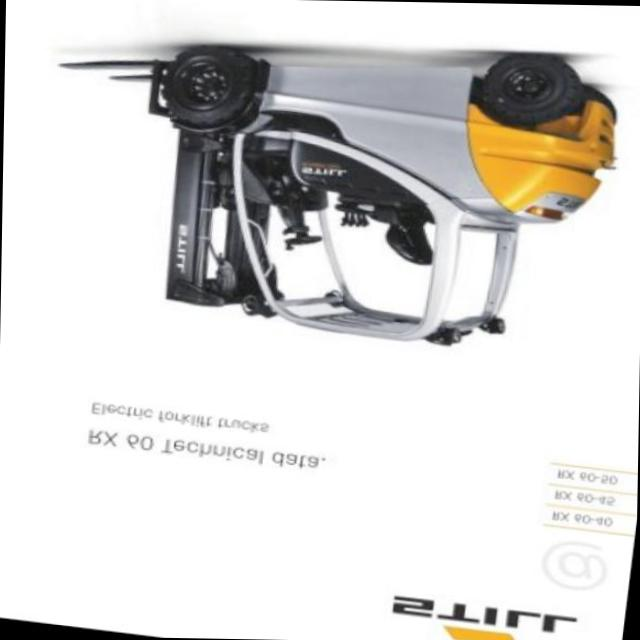forklift: (118, 0, 640, 393)
